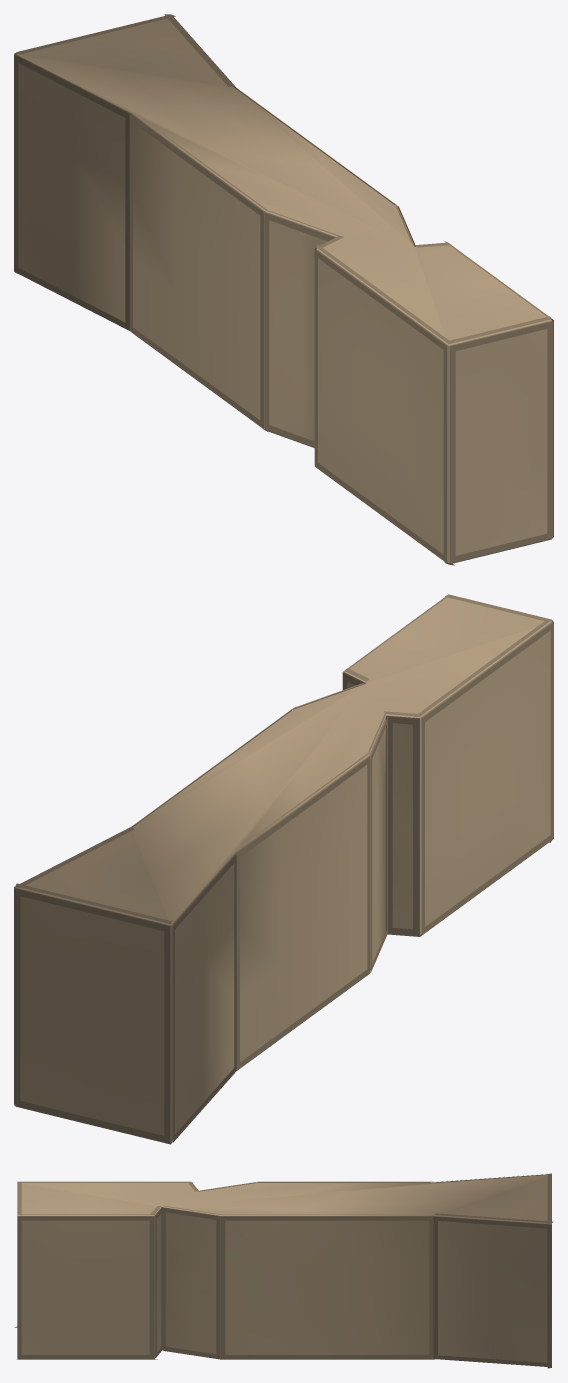
The model's file is key.glb.
3 views of the same model, one above another, from view 1: azimuth 30°, elevation 25°; view 2: azimuth 150°, elevation 25°; view 3: azimuth 270°, elevation 25° (orthographic). The views are drawn at different scales.
Visible parts, largest first — view 1: key; view 2: key; view 3: key.
Part boxes in pixels (x1,y1,x2,y2): key: [14, 14, 553, 565]; key: [14, 594, 553, 1144]; key: [14, 1173, 553, 1368].
Size of the model in its own units: 0.0402 by 0.0533 by 0.1803.
